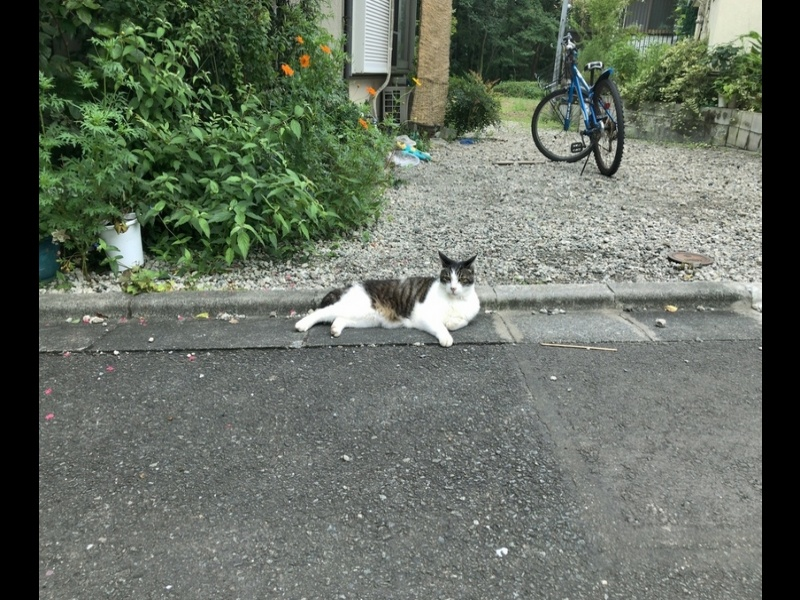cat: (293, 251, 486, 350)
